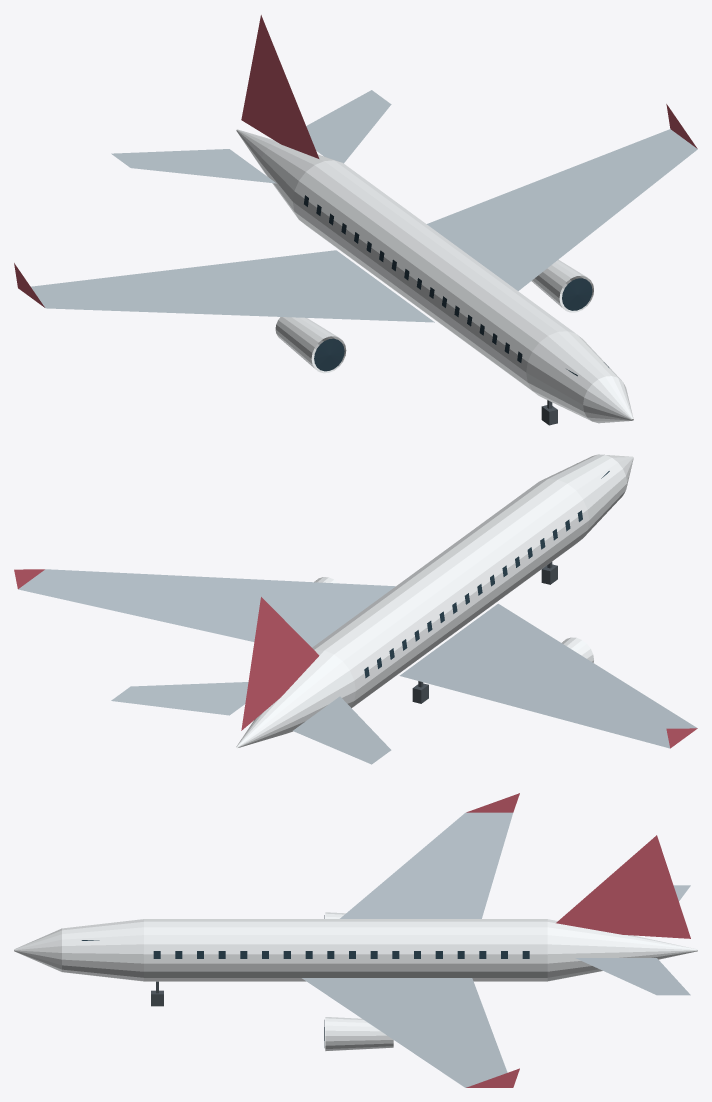
File: b787-UAE.gltf
3 renders of one model, top to bottom at view 1: azimuth 30°, elevation 25°; view 2: azimuth 150°, elevation 25°; view 3: azimuth 270°, elevation 25°, orthographic. The views are drawn at different scales.
Visible parts, largest first — view 1: object 1; view 2: object 1, Gear; view 3: object 1.
Boxes of the visible parts, left/top/right/bottom form: object 1: left=14, top=15, right=697, bottom=423; object 1: left=14, top=454, right=697, bottom=764; Gear: left=412, top=562, right=557, bottom=703; object 1: left=14, top=793, right=697, bottom=1087.
Bounding box in the file's own units: 60 × 17.22 × 63.
